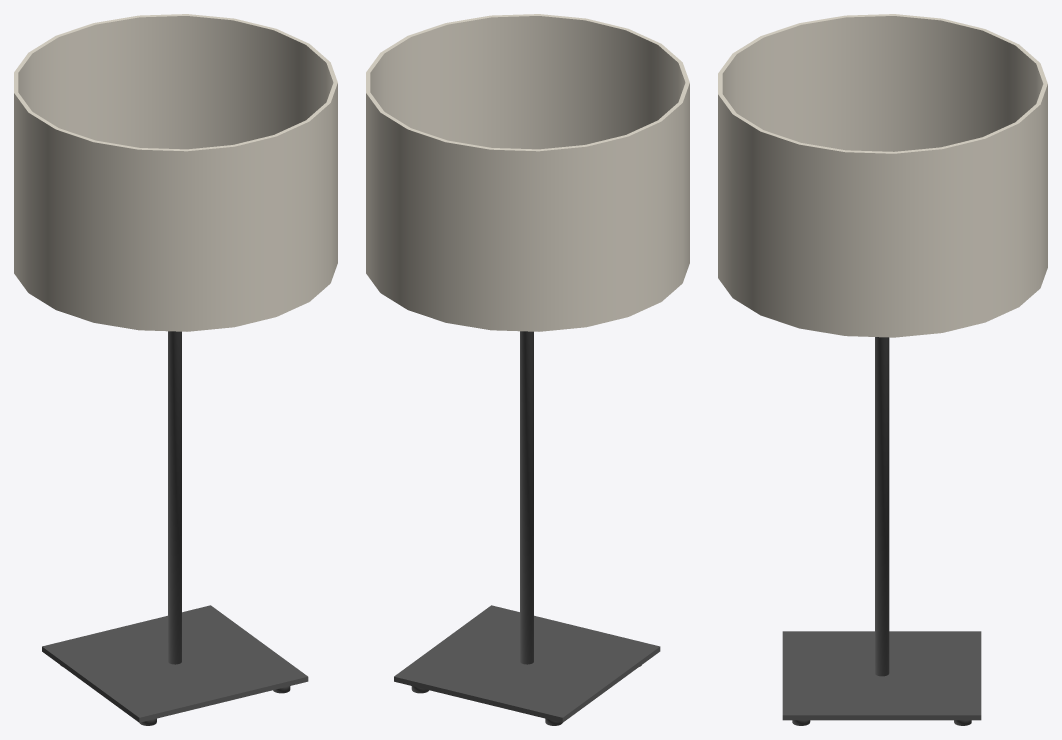
Rendered from night_stand_lamp.fbx.
The picture shows the model from 3 angles, left to right: view 1: azimuth 30°, elevation 25°; view 2: azimuth 150°, elevation 25°; view 3: azimuth 270°, elevation 25°; orthographic projection.
Parts seen in each view (by area): view 1: Cylinder, Cube.002, Cylinder.002; view 2: Cylinder, Cube.002, Cylinder.002; view 3: Cylinder, Cube.002, Cylinder.002.
Part boxes in pixels (x1=…): Cylinder: x1=14, y1=14, x2=337, y2=331; Cube.002: x1=42, y1=605, x2=308, y2=722; Cylinder.002: x1=168, y1=331, x2=181, y2=664; Cylinder: x1=366, y1=14, x2=689, y2=331; Cube.002: x1=394, y1=605, x2=660, y2=722; Cylinder.002: x1=520, y1=331, x2=533, y2=664; Cylinder: x1=718, y1=14, x2=1047, y2=337; Cube.002: x1=782, y1=631, x2=981, y2=720; Cylinder.002: x1=875, y1=337, x2=889, y2=676.
Size of the model in its own units: 1.99 by 4.03 by 1.99.
